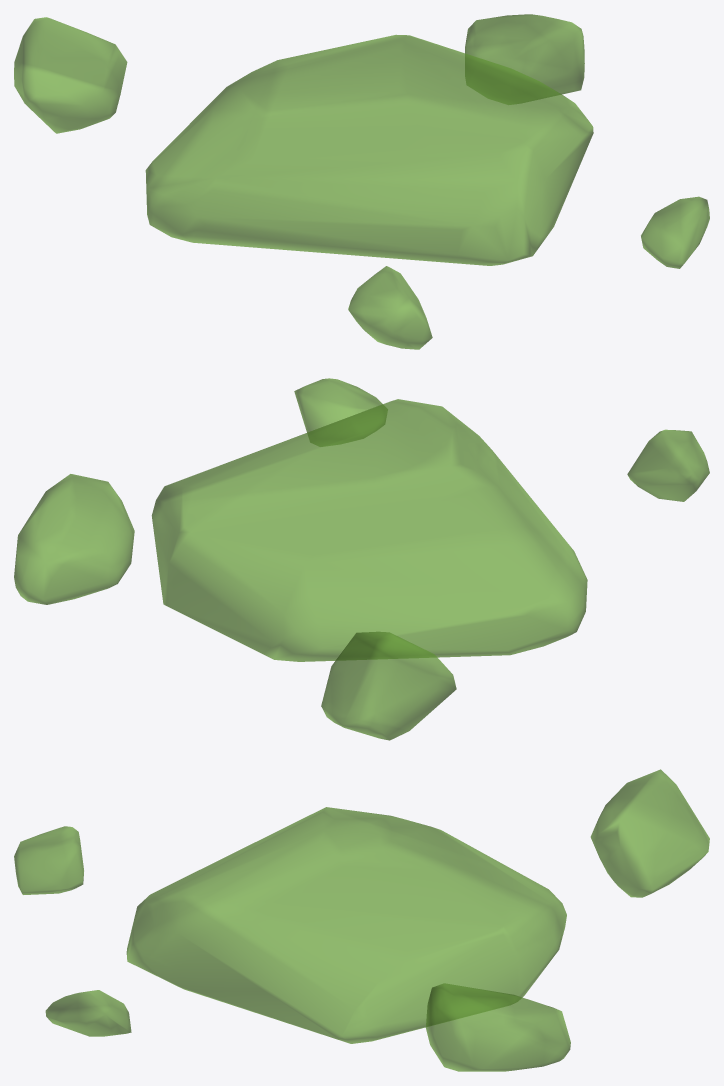
The model's file is rock_pile_01_Unity_colliders.fbx.
3 views of the same model, one above another, from view 1: azimuth 30°, elevation 25°; view 2: azimuth 150°, elevation 25°; view 3: azimuth 270°, elevation 25° (orthographic). The views are drawn at different scales.
Visible parts, largest first — view 1: rock_pile_01_collider_01, rock_pile_01_collider_05, rock_pile_01_collider_04, rock_pile_01_collider_02, rock_pile_01_collider_03; view 2: rock_pile_01_collider_01, rock_pile_01_collider_04, rock_pile_01_collider_05, rock_pile_01_collider_03, rock_pile_01_collider_02; view 3: rock_pile_01_collider_01, rock_pile_01_collider_04, rock_pile_01_collider_05, rock_pile_01_collider_02, rock_pile_01_collider_03.
Boxes of the visible parts, x1,y1,x2,y2 form: rock_pile_01_collider_01: (145,34,593,265); rock_pile_01_collider_05: (14,17,127,133); rock_pile_01_collider_04: (465,14,584,104); rock_pile_01_collider_02: (348,266,432,349); rock_pile_01_collider_03: (641,196,709,268); rock_pile_01_collider_01: (151,399,587,661); rock_pile_01_collider_04: (14,474,134,604); rock_pile_01_collider_05: (321,631,456,740); rock_pile_01_collider_03: (294,378,387,446); rock_pile_01_collider_02: (627,429,709,501); rock_pile_01_collider_01: (126,807,566,1043); rock_pile_01_collider_04: (425,983,570,1071); rock_pile_01_collider_05: (590,769,709,897); rock_pile_01_collider_02: (14,826,83,894); rock_pile_01_collider_03: (45,990,131,1036).
Size of the model in its own units: 56.62 by 11.81 by 73.2.
